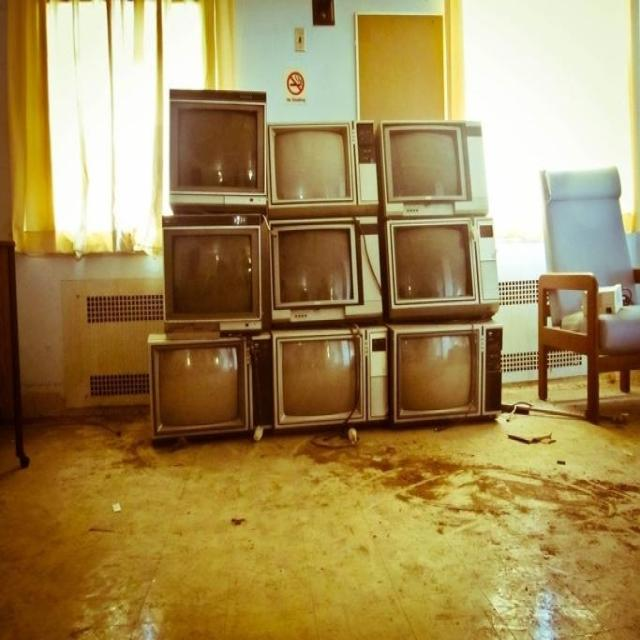E-waste: (88, 51, 570, 451)
